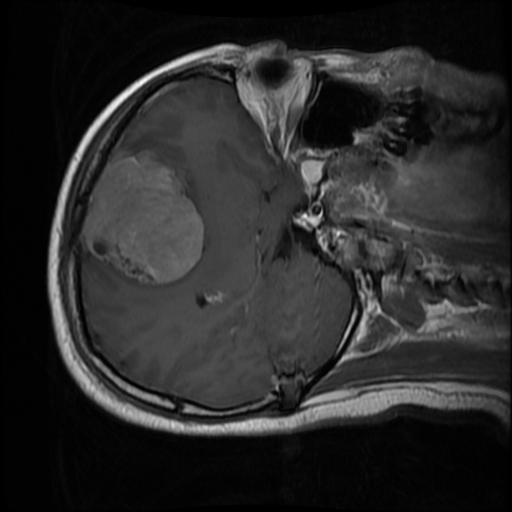meningioma: (82, 150, 204, 284)
